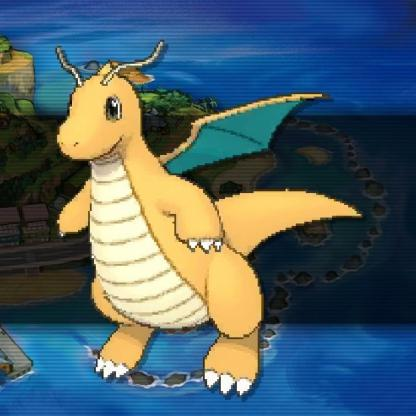Dragonite: (41, 35, 363, 413)
